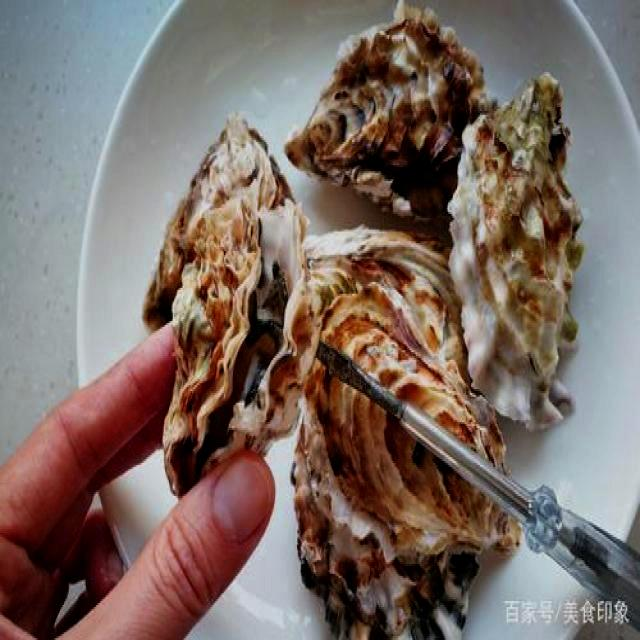Oyster-Closed: (292, 360, 519, 640), (448, 75, 584, 430), (304, 226, 505, 464), (286, 4, 491, 217)
Oyster-Open: (144, 116, 315, 495)
